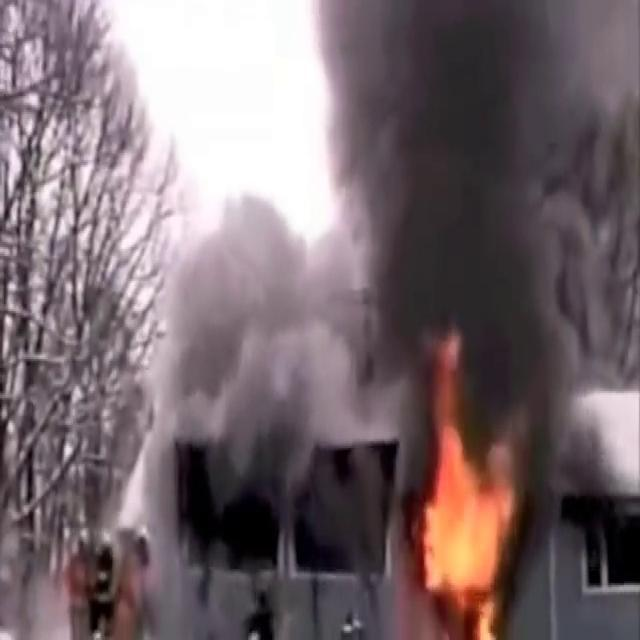Fire: (413, 323, 524, 626)
Smoke: (332, 0, 640, 387), (136, 172, 387, 472)
